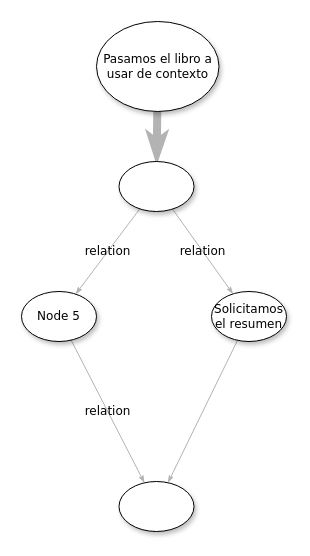
This 310x556 diagram has some shape labels left out. The shapes that lost their labels are listed below. From the top down, each one's centre as x and y in pixels, then its label:
At (157,187): "Node 2".
At (157,507): "End node".
